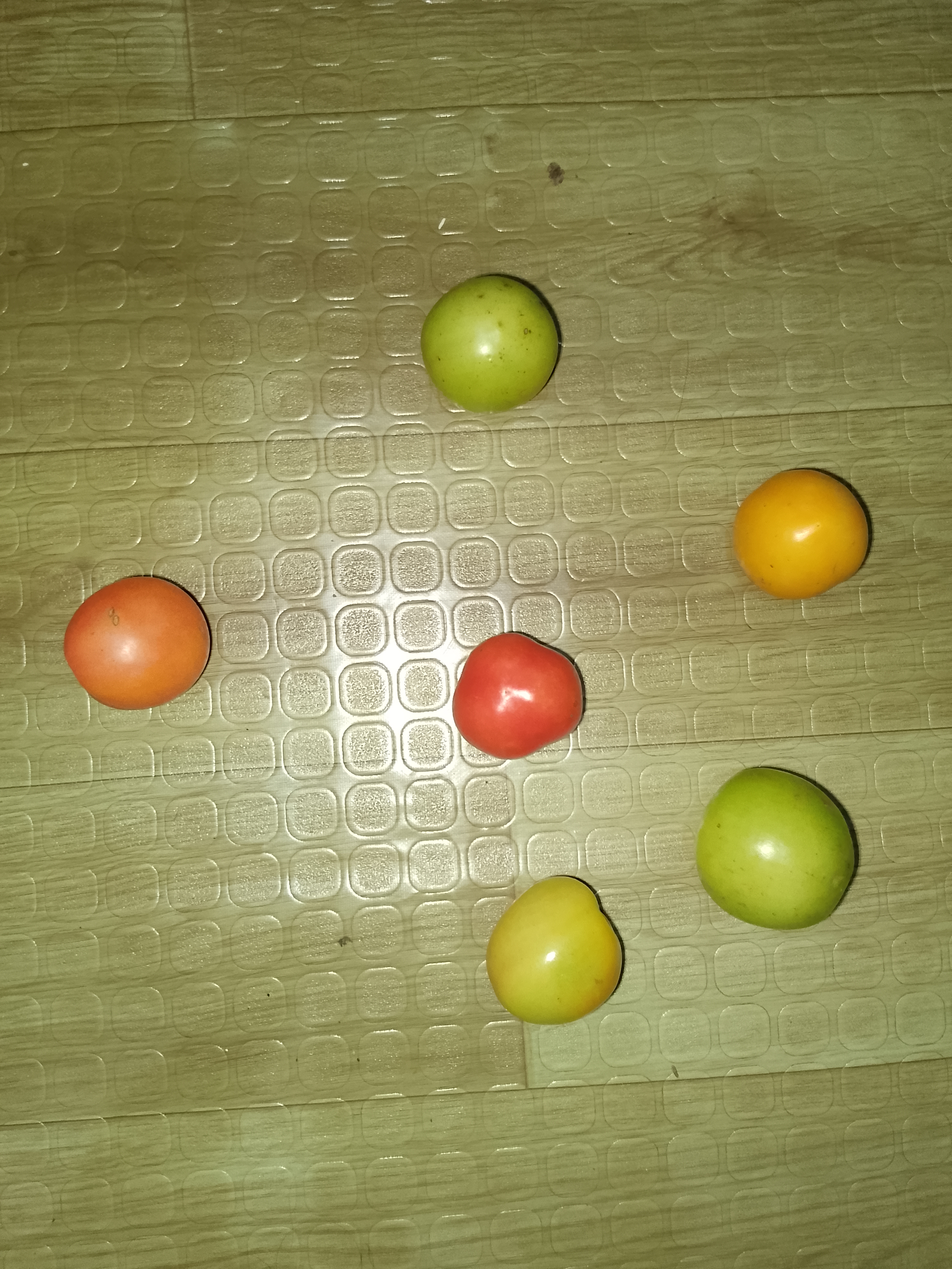Ripe: (672, 436, 932, 631), (382, 597, 615, 786), (47, 553, 244, 740)
Unripe: (675, 740, 901, 952), (439, 862, 670, 1056), (392, 254, 566, 423)
